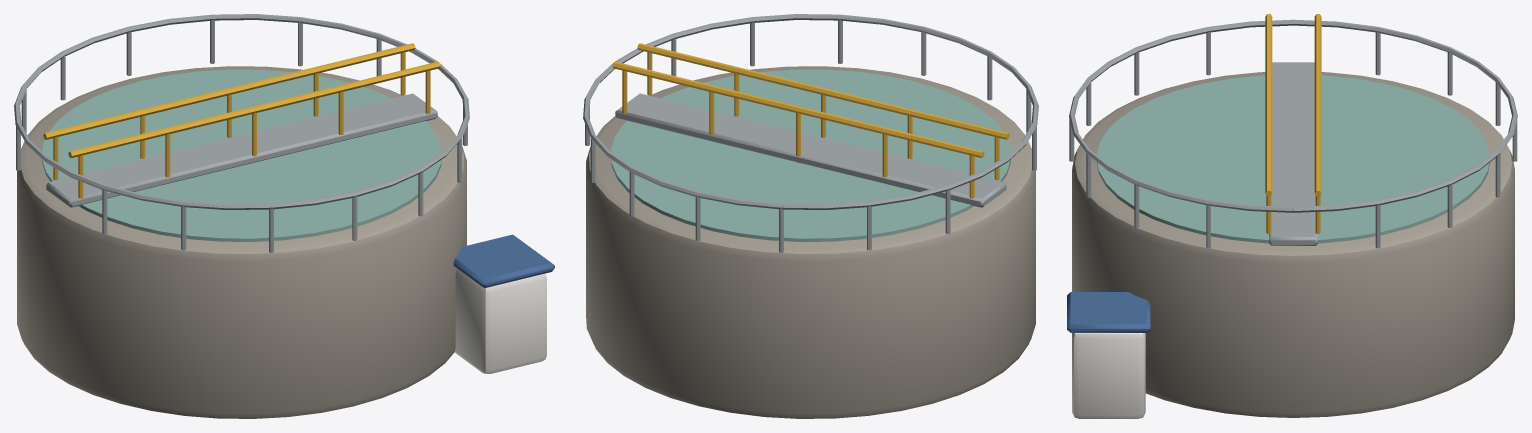
The model's file is treatment_plant.glb.
3 views of the same model, side by side, from view 1: azimuth 30°, elevation 25°; view 2: azimuth 150°, elevation 25°; view 3: azimuth 270°, elevation 25° (orthographic).
Visible parts, largest first — view 1: stone, water_tank, galv, hazard, white, sign_blue; view 2: stone, water_tank, galv, hazard; view 3: stone, water_tank, galv, white, sign_blue, hazard.
Part boxes in pixels (bbox=[...]): stone: bbox=[17, 66, 466, 418]; water_tank: bbox=[42, 69, 441, 241]; galv: bbox=[14, 14, 469, 252]; hazard: bbox=[43, 43, 440, 198]; white: bbox=[454, 268, 546, 373]; sign_blue: bbox=[453, 234, 554, 288]; stone: bbox=[586, 66, 1035, 418]; water_tank: bbox=[611, 69, 1010, 241]; galv: bbox=[583, 14, 1038, 252]; hazard: bbox=[612, 43, 1009, 198]; stone: bbox=[1072, 72, 1514, 417]; water_tank: bbox=[1097, 75, 1489, 243]; galv: bbox=[1069, 19, 1517, 248]; white: bbox=[1072, 333, 1145, 418]; sign_blue: bbox=[1067, 292, 1150, 332]; hazard: bbox=[1265, 14, 1321, 233].
Bounding box in the file's own units: 1.83 × 1.01 × 1.83.
